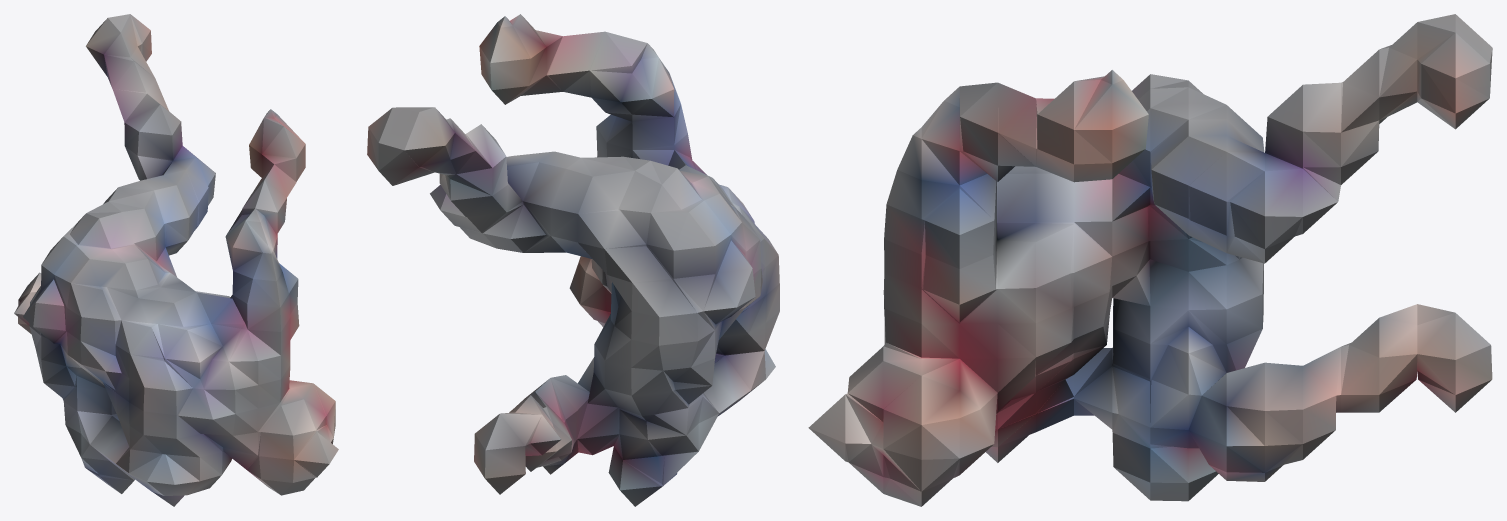
3 views of the same model, side by side, from view 1: azimuth 30°, elevation 25°; view 2: azimuth 150°, elevation 25°; view 3: azimuth 270°, elevation 25° (orthographic). The views are drawn at different scales.
Visible parts, largest first — view 1: world; view 2: world; view 3: world.
Boxes of the visible parts, x1=… form: world: x1=14, y1=14, x2=338, y2=506; world: x1=367, y1=14, x2=779, y2=506; world: x1=808, y1=14, x2=1492, y2=506.
Bounding box in the file's own units: 0.6101 × 0.8959 × 1.01.
